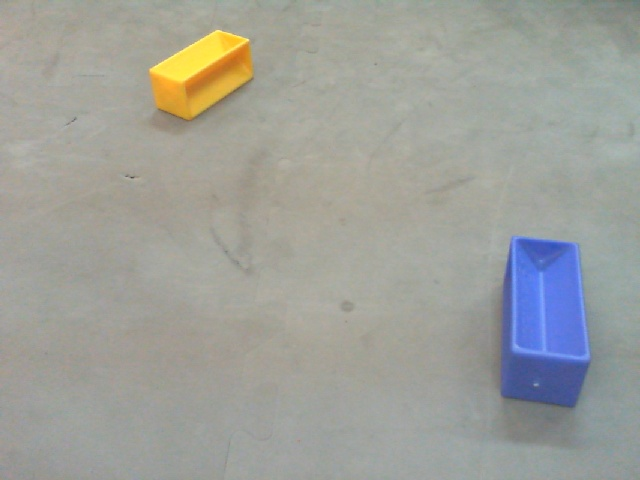BlueSample: (500, 232, 589, 413)
YellowSample: (146, 28, 259, 123)
